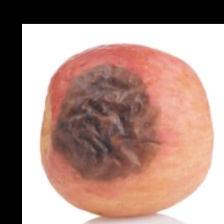apple: (2, 54, 199, 195)
